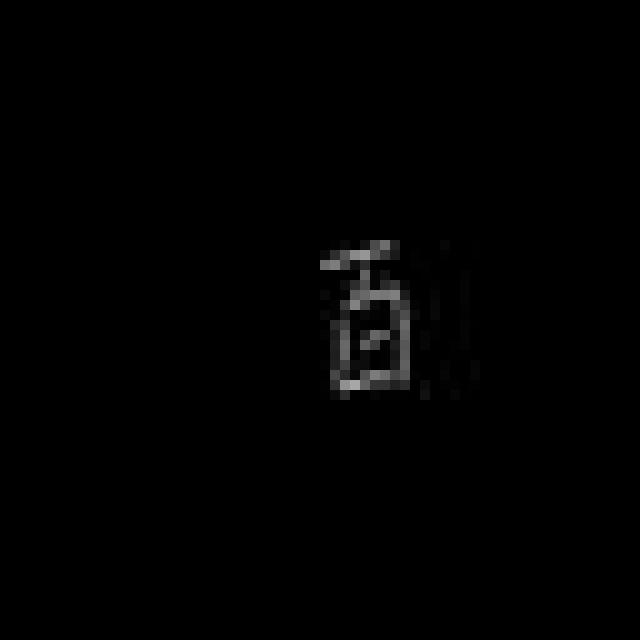100 -a hundred-: (312, 229, 419, 408)
